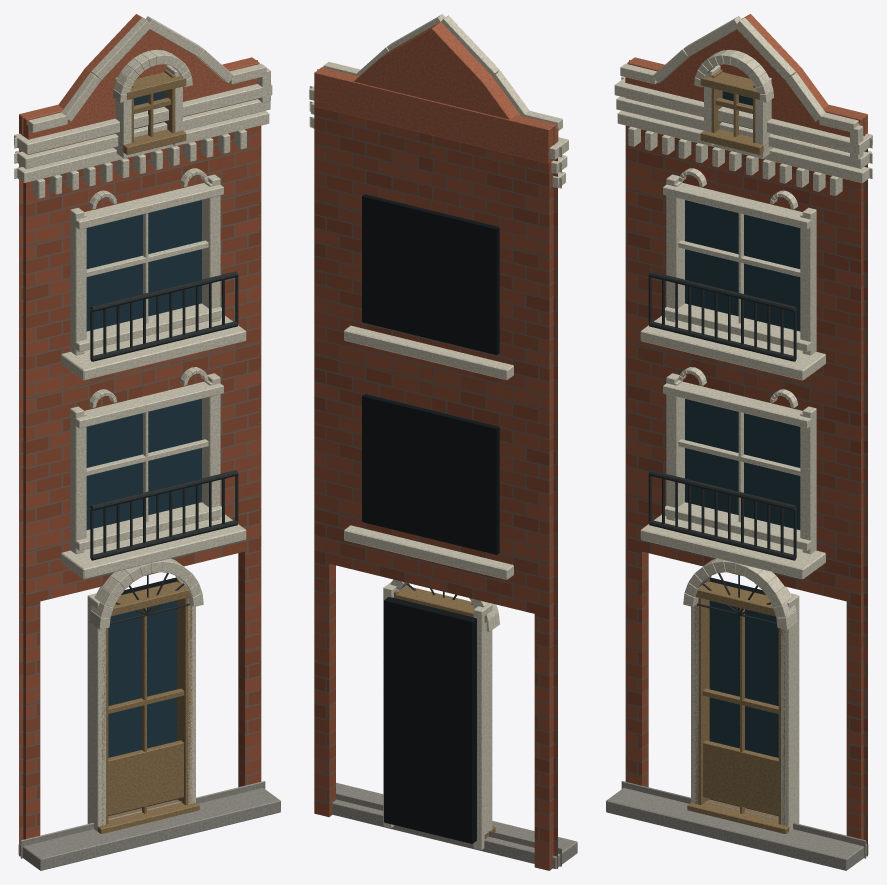
File: VICT14_lod1.glb
3 views of the same model, side by side, from view 1: azimuth 30°, elevation 25°; view 2: azimuth 150°, elevation 25°; view 3: azimuth 330°, elevation 25° (orthographic).
Parts seen in each view (by area): view 1: VICT14_FRONT_LOD1; view 2: VICT14_FRONT_LOD1; view 3: VICT14_FRONT_LOD1.
Boxes of the visible parts, bbox=[...] form: VICT14_FRONT_LOD1: bbox=[14, 14, 280, 870]; VICT14_FRONT_LOD1: bbox=[309, 14, 577, 870]; VICT14_FRONT_LOD1: bbox=[606, 14, 872, 870].
Bounding box in the file's own units: 3.44 × 10.64 × 0.8592.
9 materials, 7 textured.
